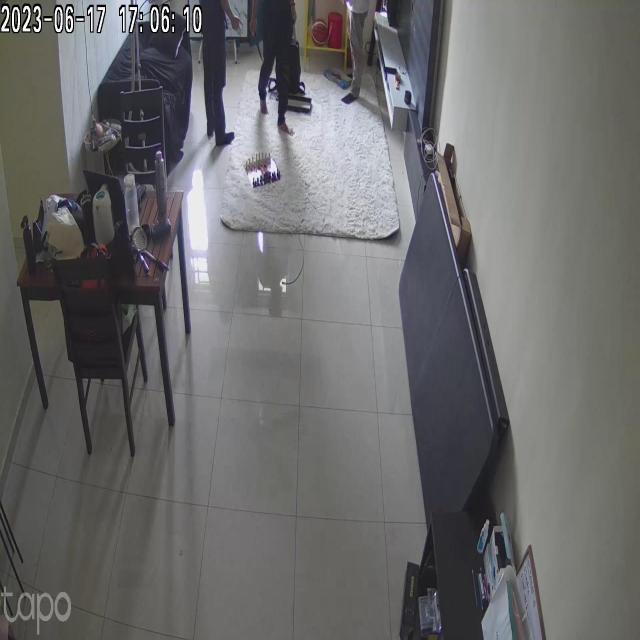Knife: (244, 33, 268, 64)
